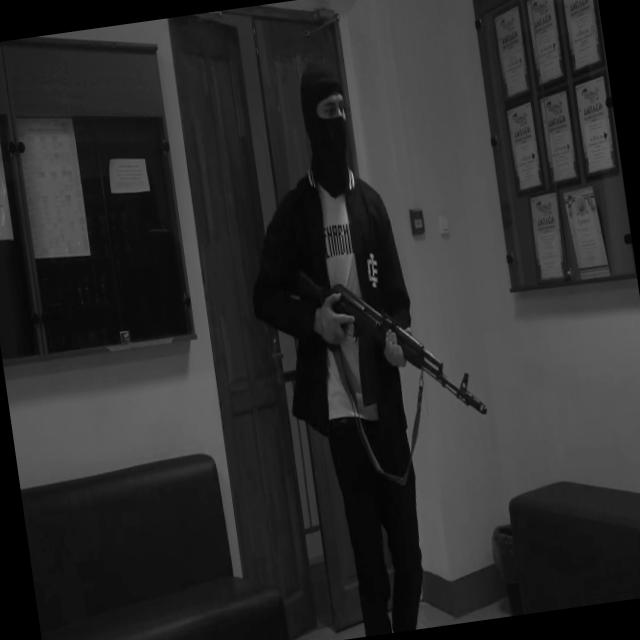gun: (285, 238, 489, 441)
person with a gun: (220, 44, 517, 640)
